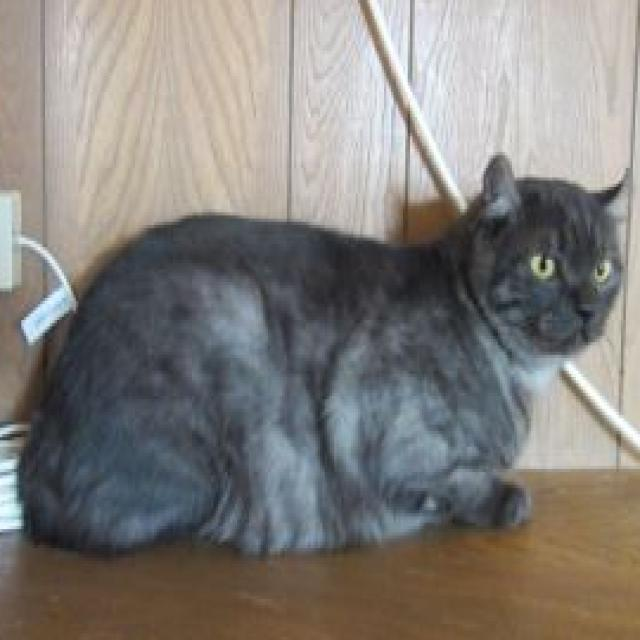American Bobtail: (11, 149, 634, 565)
